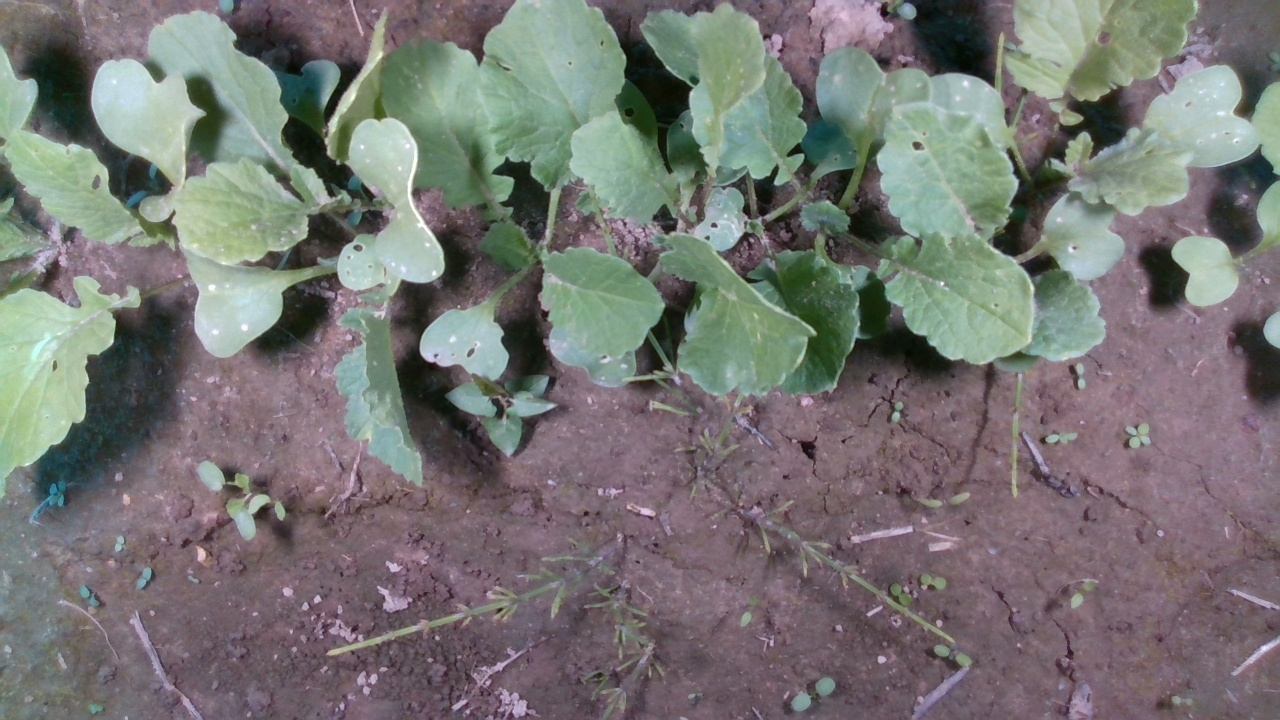weed: (915, 491, 973, 509), (1123, 423, 1152, 448), (1043, 429, 1079, 446), (916, 573, 947, 588), (1074, 361, 1088, 391), (889, 398, 905, 421)
